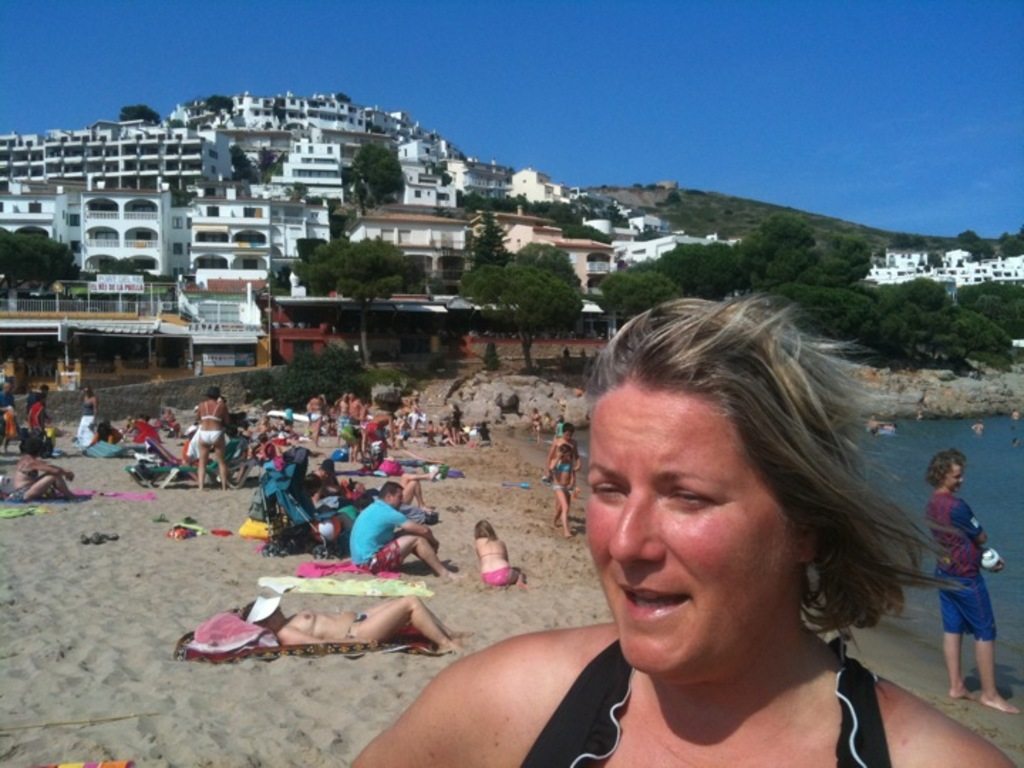Human-face: (587, 387, 795, 676), (949, 465, 963, 491), (951, 464, 964, 481), (393, 489, 401, 506)
